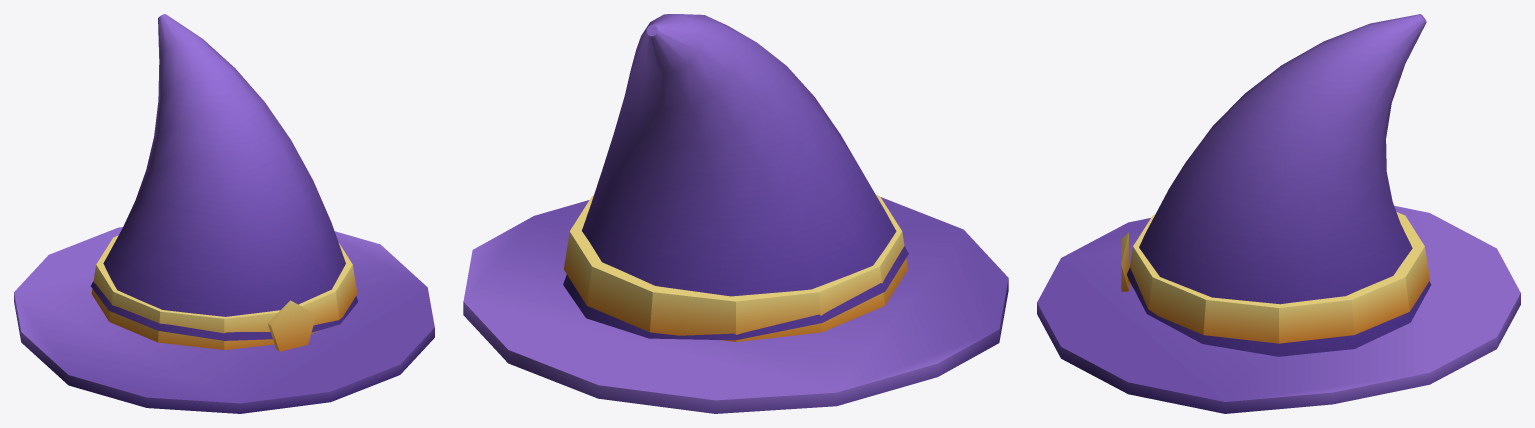
Rendered from wizard-hat.glb.
3 renders of one model, left to right at view 1: azimuth 30°, elevation 25°; view 2: azimuth 150°, elevation 25°; view 3: azimuth 270°, elevation 25°, orthographic. The views are drawn at different scales.
Parts seen in each view (by area): view 1: Hat; view 2: Hat; view 3: Hat.
Part boxes in pixels (left/top/right/bottom): Hat: left=14, top=14, right=434, bottom=413; Hat: left=463, top=14, right=1008, bottom=413; Hat: left=1037, top=14, right=1520, bottom=413.
Bounding box in the file's own units: 1.79 × 1.26 × 1.84.
Materials: 1 (1 with a texture image).
